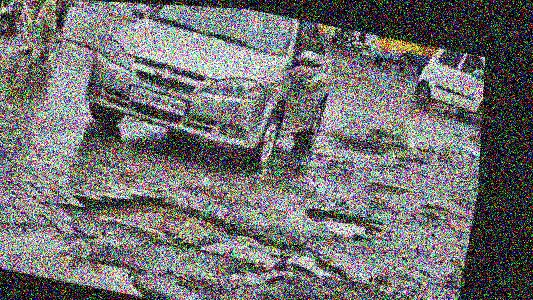pothole: (53, 174, 360, 292), (0, 215, 206, 300), (301, 202, 387, 248)
